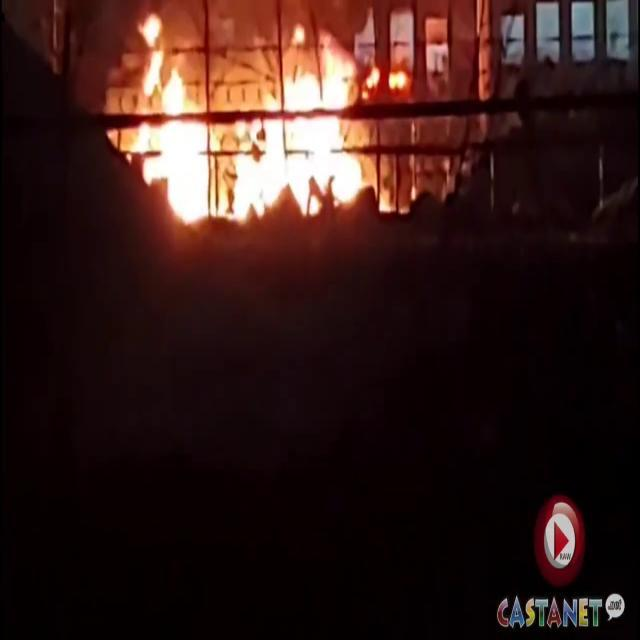Fire: (117, 28, 396, 232)
